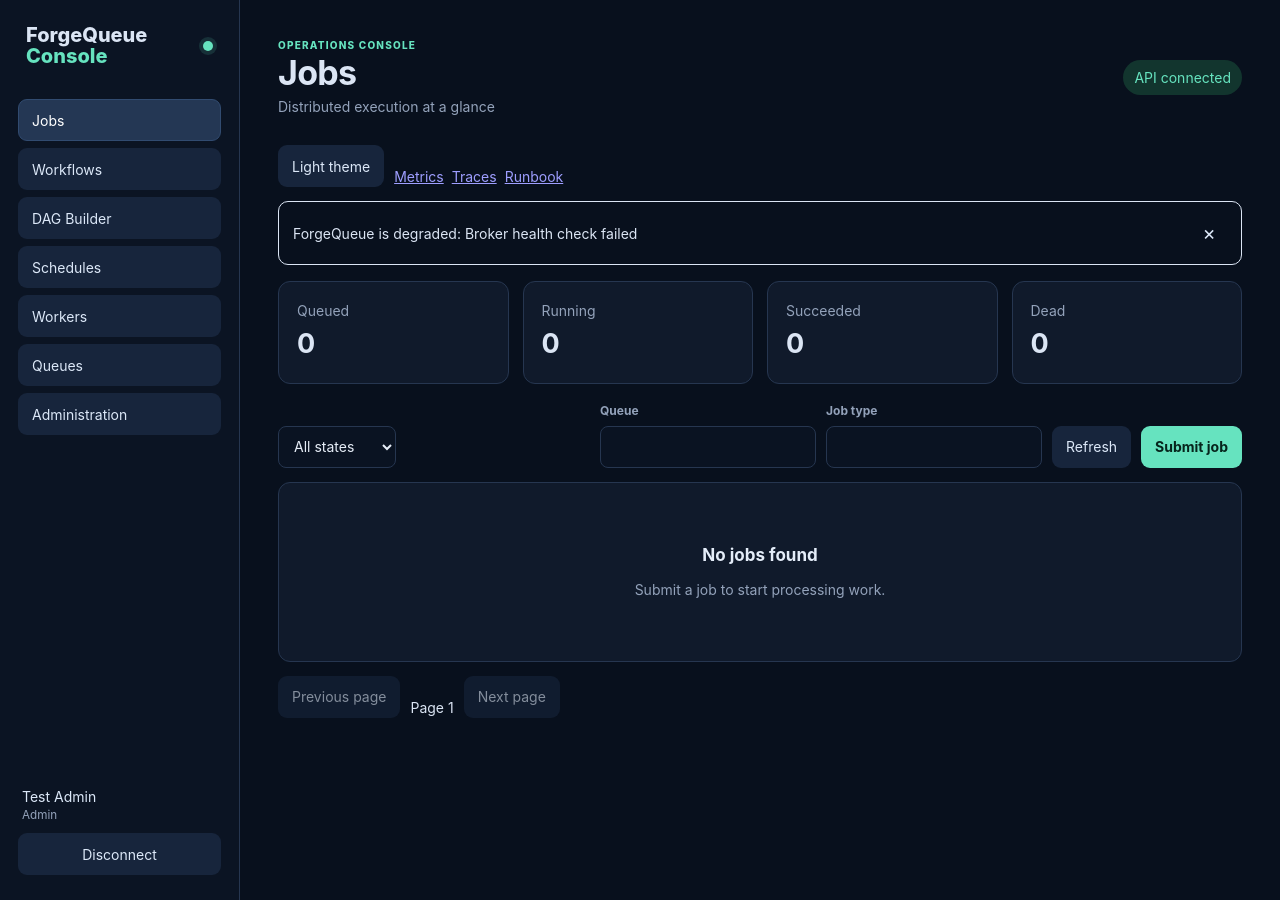
Test: App authentication state › shows degraded service state and recovers when it is dismissed
expect the button "Disconnect" is shown: met, box x1=18 y1=833 x2=221 y2=875
expect the text "ForgeQueue is degraded: Broker health check failed ×" is shown: met, box x1=278 y1=201 x2=1242 y2=265
Click the button named "Dismiss degraded service warning" at x=1209, y=233, box x1=1191 y1=213 x2=1227 y2=253
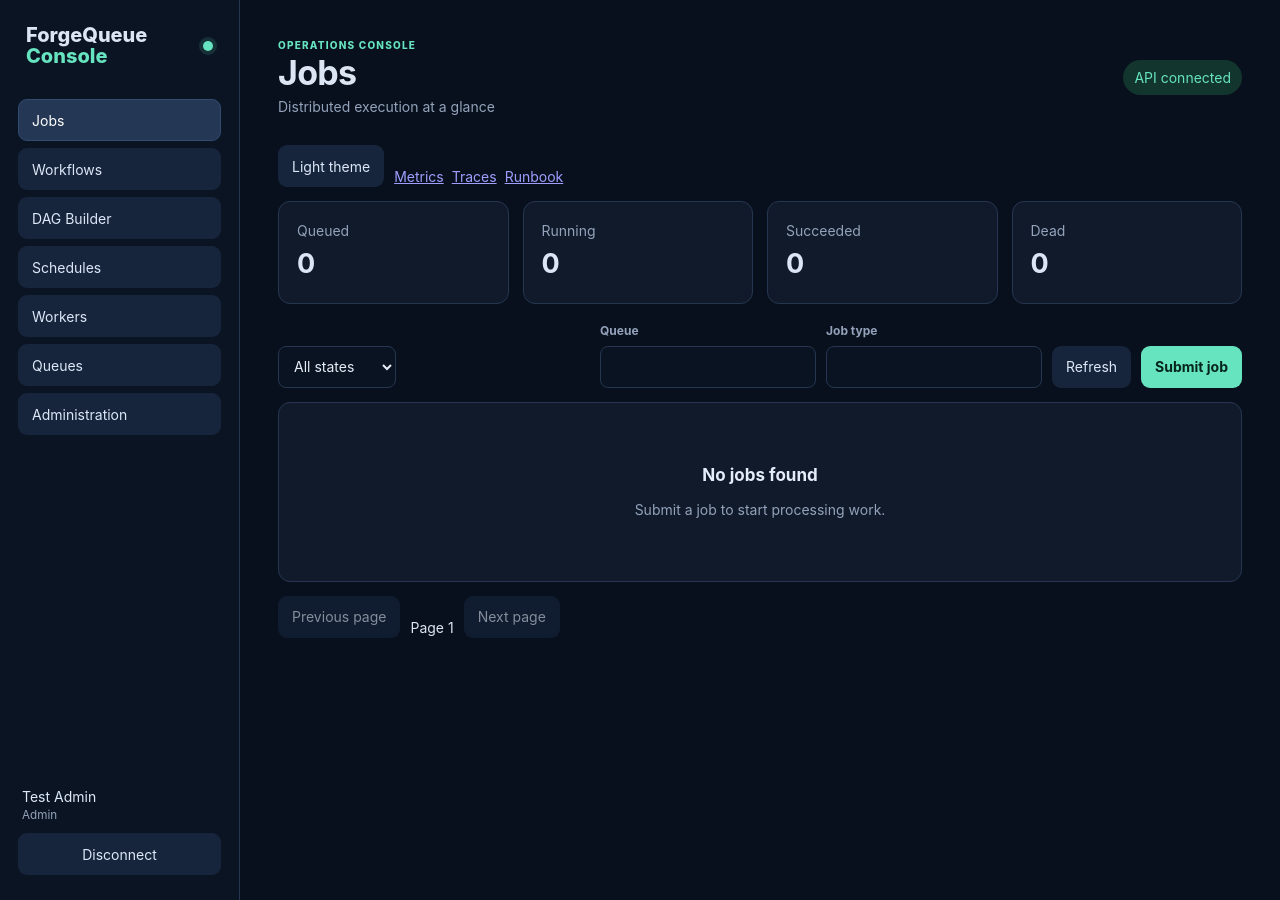
expect the text "ForgeQueue is degraded" is gone: met
